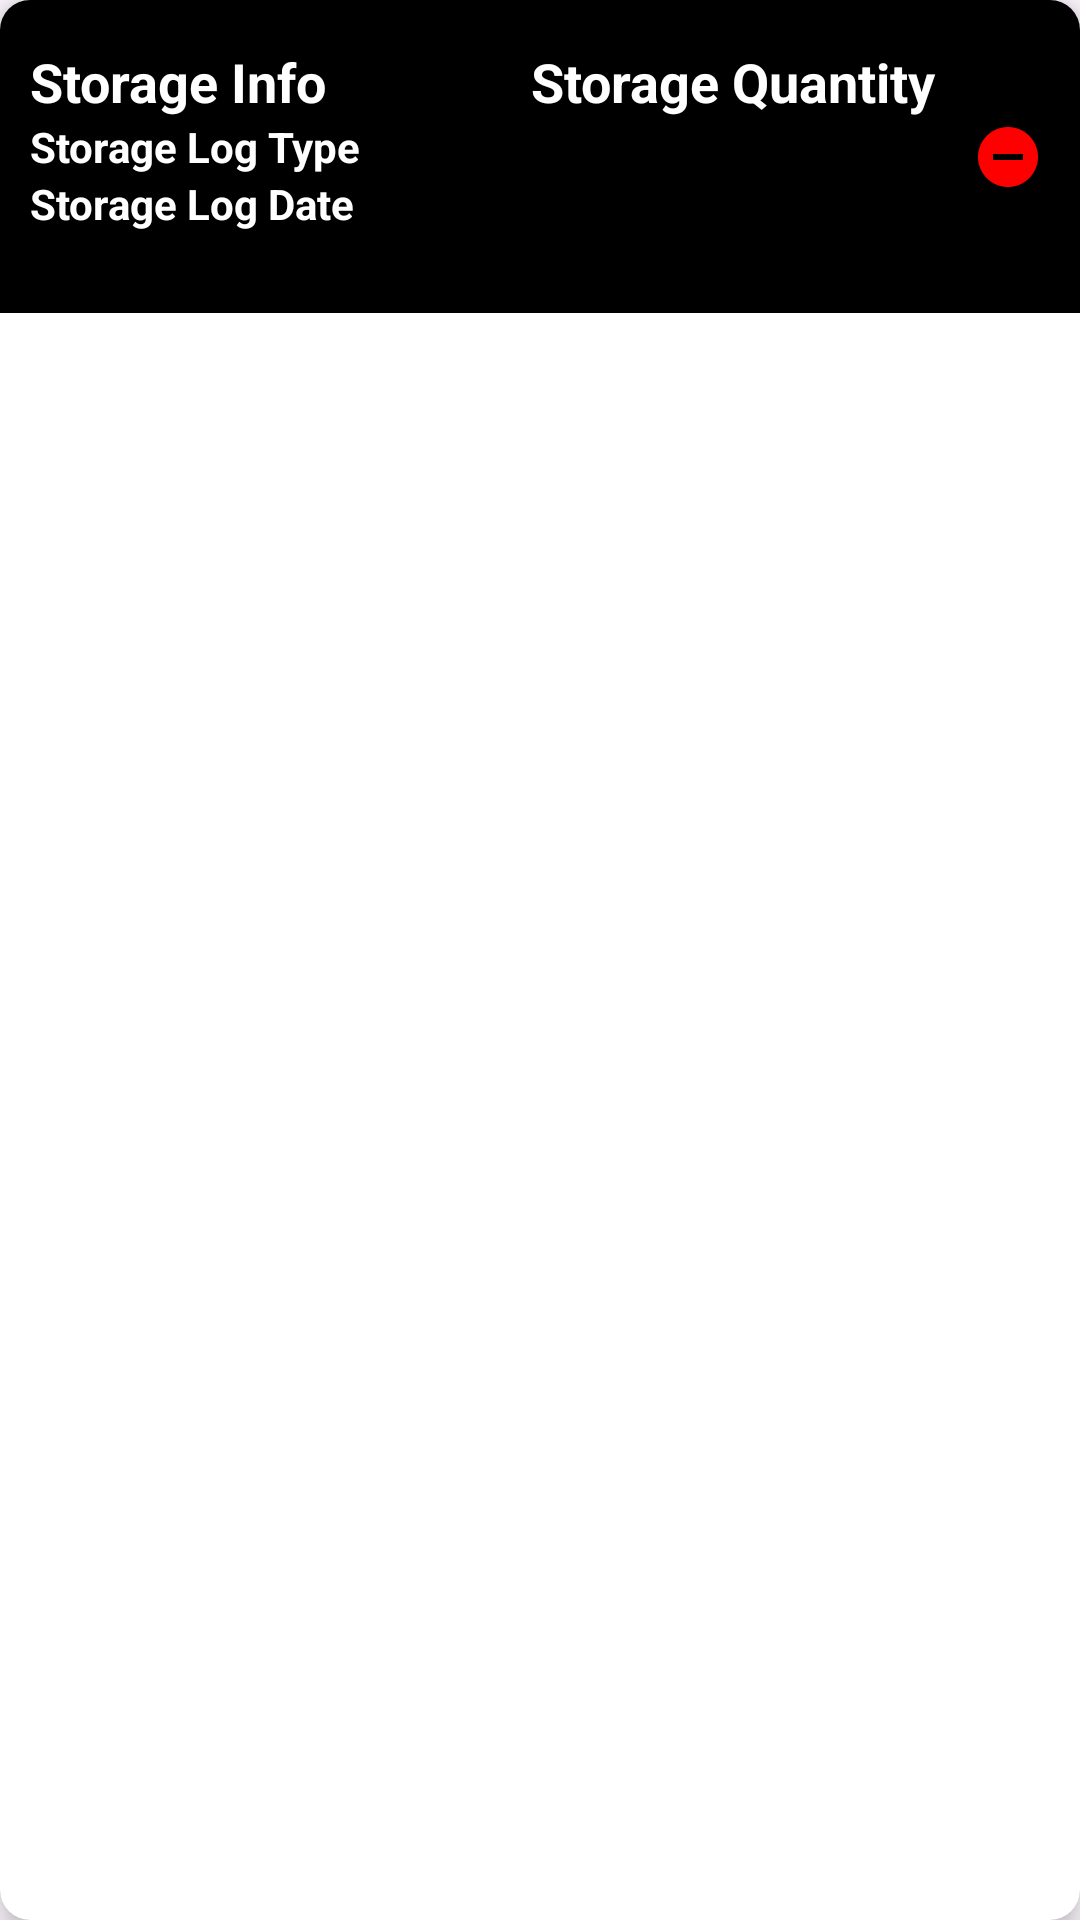

Screen size 1080px×1920px. Icon name, then its center in pixels as point (x, y):
delete: point (1008, 157)
